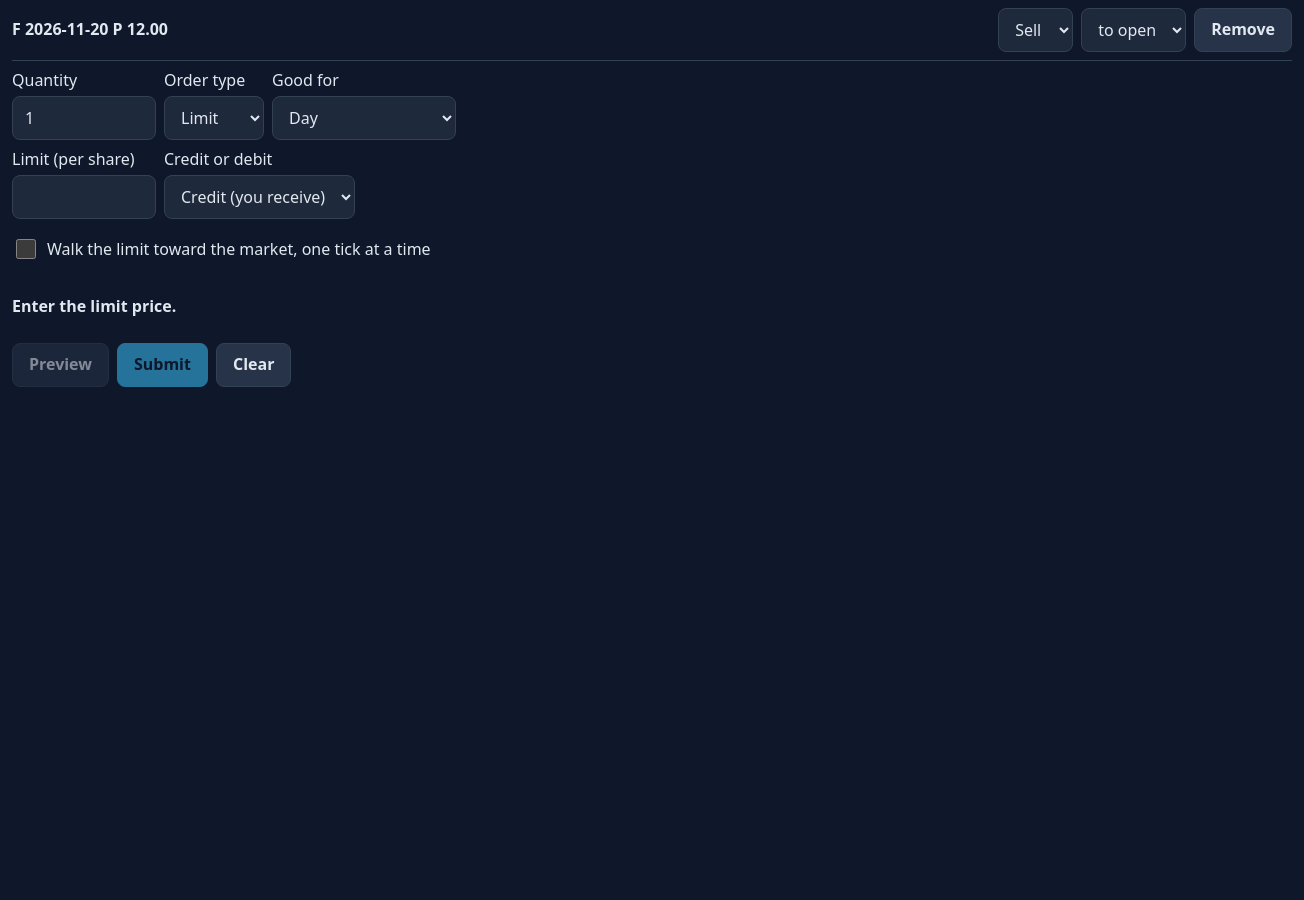
Ticket › a preview rejected for naked_short disables Submit and says why in plain words
Step 1. Type "0.45" into the field labelled "Limit (per share)" → x=84, y=197, box 12,175 -> 156,219
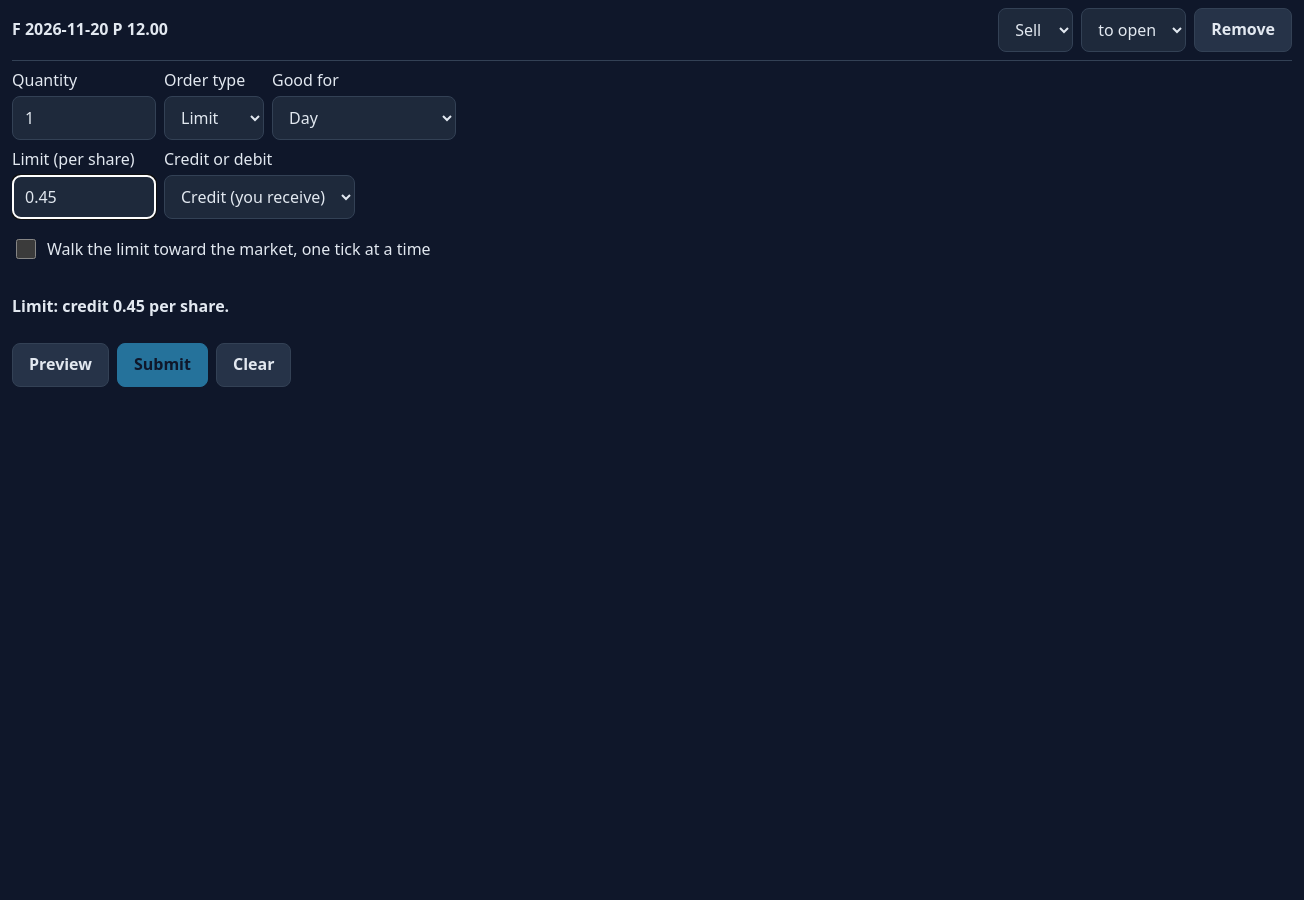
Step 2. Click the button "Preview" → x=60, y=365, box 12,343 -> 109,387
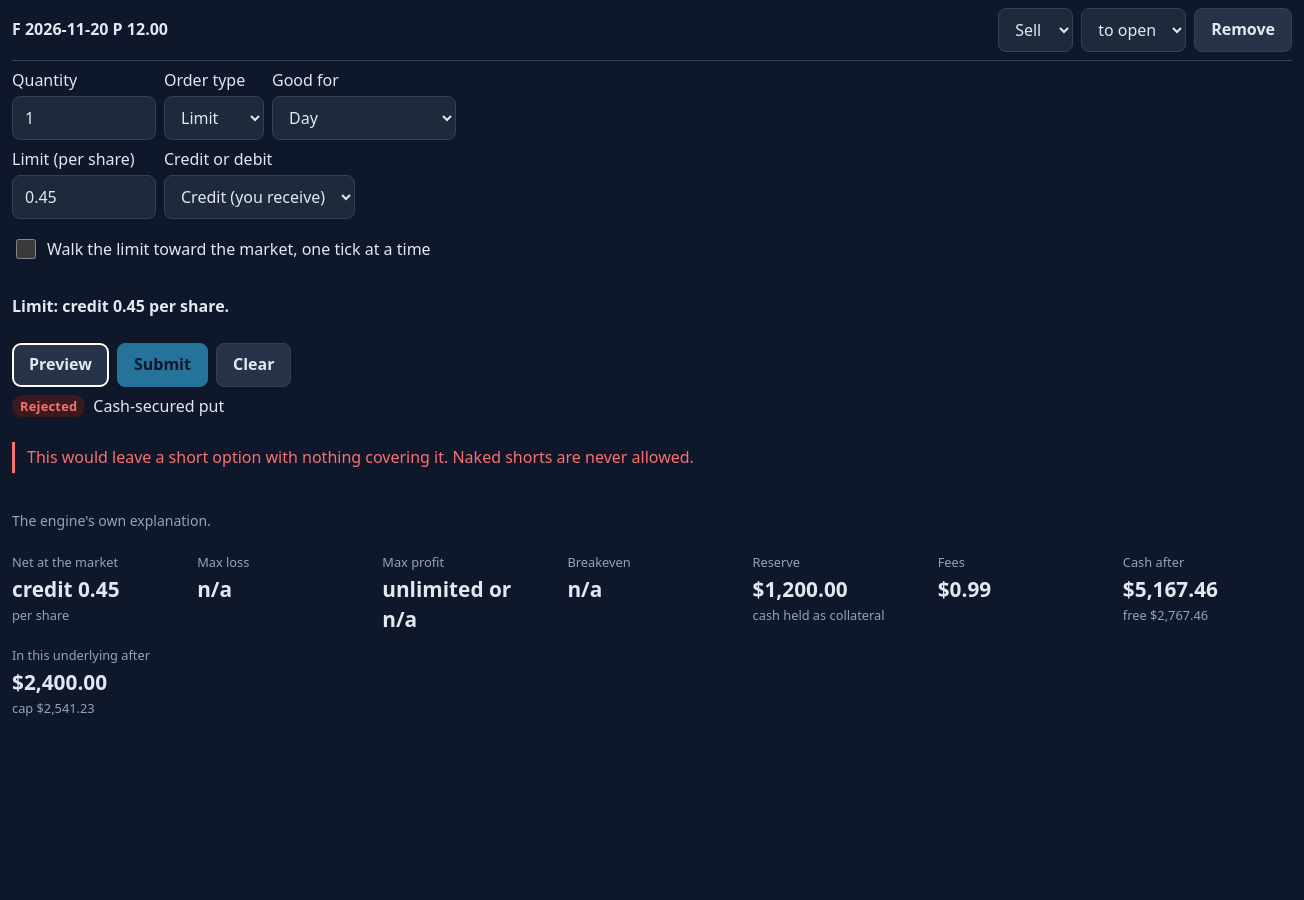
Check: the text "Rejected" is shown, box 12,395 -> 85,417
Check: the message shows "This would leave a short option with nothing covering it. Naked shorts are never allowed.", box 27,446 -> 694,468
Check: the text "The engine's own explanation." is shown, box 12,511 -> 211,530
